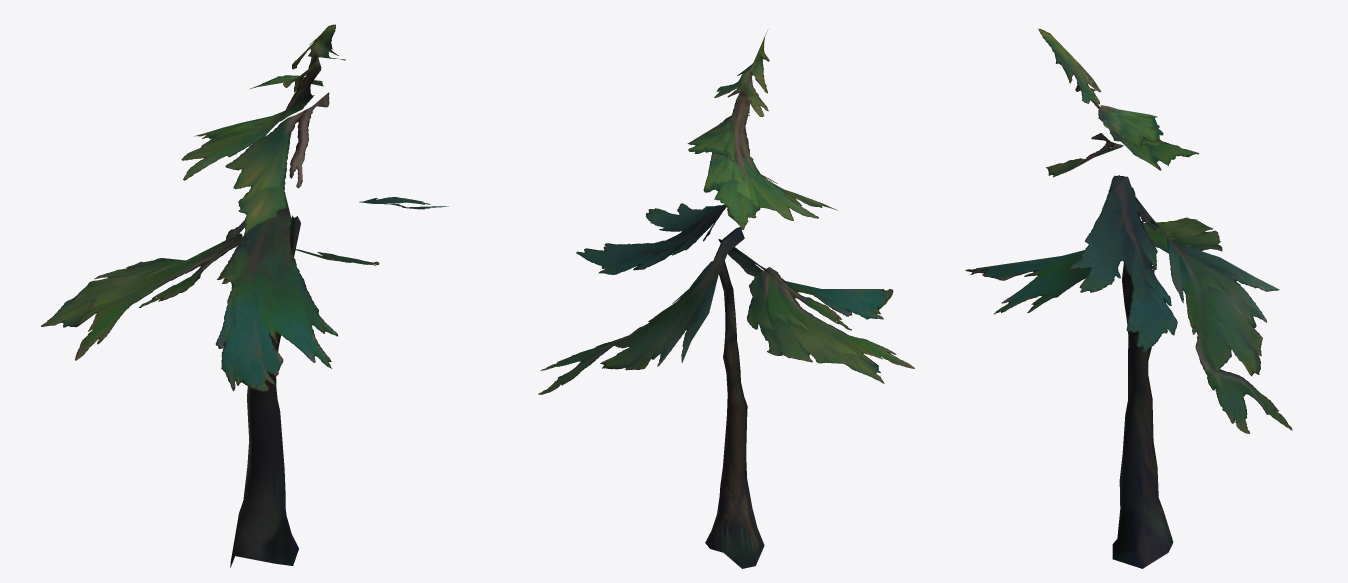
File: pine_tall.glb
3 renders of one model, left to right at view 1: azimuth 30°, elevation 25°; view 2: azimuth 150°, elevation 25°; view 3: azimuth 270°, elevation 25°, orthographic. The views are drawn at different scales.
Visible parts, largest first — view 1: pine_tall; view 2: pine_tall; view 3: pine_tall.
Part boxes in pixels (bbox=[...]): pine_tall: bbox=[41, 24, 448, 567]; pine_tall: bbox=[538, 30, 914, 568]; pine_tall: bbox=[965, 28, 1292, 568].
Bounding box in the file's own units: 1.48 × 2 × 1.25.
Materials: 1 (1 with a texture image).
